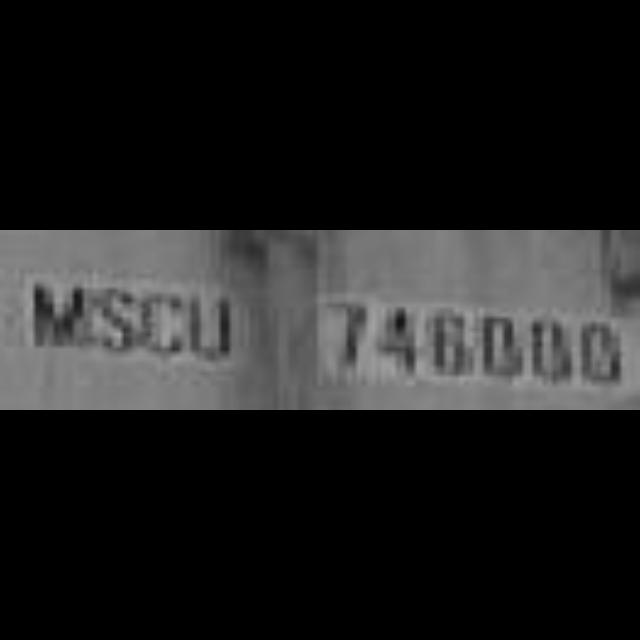0: (574, 314, 626, 390), (526, 312, 572, 388), (476, 306, 520, 382)
4: (375, 299, 423, 381)
6: (426, 300, 474, 386)
7: (316, 294, 368, 384)
c: (138, 280, 188, 360)
m: (22, 272, 90, 350)
s: (94, 274, 136, 360)
u: (186, 286, 240, 368)
